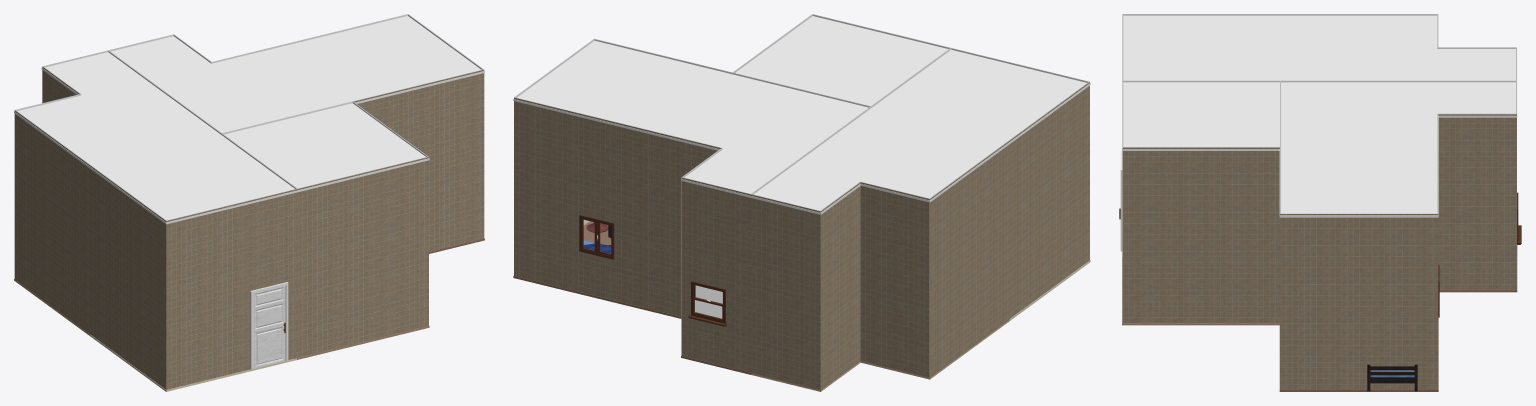
Rendered from ProcTHOR-Train-35.glb.
3 renders of one model, left to right at view 1: azimuth 30°, elevation 25°; view 2: azimuth 150°, elevation 25°; view 3: azimuth 270°, elevation 25°, orthographic. The views are drawn at different scales.
Parts seen in each view (by area): view 1: WallInside#wall|exterior|3.67|9.17|7.34|9.17, Ceiling#room|4|c, WallInside#wall|exterior|7.34|9.17|11.01|9.17, WallInside#wall|exterior|11.01|1.83|11.01|5.50, WallInside#wall|exterior|11.01|5.50|11.01|9.17, Ceiling#room|6|c, WallInside#wall|exterior|0.00|5.50|3.67|5.50, Ceiling#room|7|c, Ceiling#room|5|c, Doorway_8, WallInside#wall|exterior|9.17|0.00|9.17|1.83, Floor#room|7|f (+1 smaller); view 2: WallInside#wall|exterior|0.00|1.83|5.50|1.83, Ceiling#room|4|c, WallInside#wall|exterior|11.01|5.50|11.01|9.17, WallInside#wall|exterior|11.01|1.83|11.01|5.50, Ceiling#room|6|c, WallInside#wall|exterior|7.34|0.00|9.17|0.00, WallInside#wall|exterior|9.17|1.83|11.01|1.83, WallInside#wall|exterior|5.50|0.00|7.34|0.00, Ceiling#room|7|c, Ceiling#room|5|c, WallInside#wall|exterior|9.17|0.00|9.17|1.83, Floor#room|4|f (+4 smaller); view 3: WallInside#wall|exterior|3.67|5.50|3.67|9.17, WallInside#wall|exterior|0.00|1.83|0.00|5.50, Ceiling#room|4|c, WallInside#wall|exterior|5.50|0.00|5.50|1.83, Ceiling#room|6|c, Ceiling#room|5|c, Ceiling#room|7|c, Bed_20, Floor#room|4|f, WallInside#wall|4|7.34|0.00|7.34|5.50, Floor#room|5|f, WallInside#wall|5|7.34|5.50|7.34|9.17.
Part boxes in pixels (<box>): WallInside#wall|exterior|3.67|9.17|7.34|9.17: <box>297,157,428,357</box>; Ceiling#room|4|c: <box>110,16,484,134</box>; WallInside#wall|exterior|7.34|9.17|11.01|9.17: <box>166,189,297,389</box>; WallInside#wall|exterior|11.01|1.83|11.01|5.50: <box>14,110,90,334</box>; WallInside#wall|exterior|11.01|5.50|11.01|9.17: <box>90,165,166,389</box>; Ceiling#room|6|c: <box>14,52,221,167</box>; WallInside#wall|exterior|0.00|5.50|3.67|5.50: <box>353,69,484,251</box>; Ceiling#room|7|c: <box>89,135,298,224</box>; Ceiling#room|5|c: <box>223,103,429,192</box>; Doorway_8: <box>250,282,288,369</box>; WallInside#wall|exterior|9.17|0.00|9.17|1.83: <box>42,66,79,102</box>; Floor#room|7|f: <box>89,334,296,391</box>; WallInside#wall|exterior|0.00|1.83|5.50|1.83: <box>514,97,721,316</box>; Ceiling#room|4|c: <box>513,40,871,197</box>; WallInside#wall|exterior|11.01|5.50|11.01|9.17: <box>1009,81,1089,318</box>; WallInside#wall|exterior|11.01|1.83|11.01|5.50: <box>929,140,1009,376</box>; Ceiling#room|6|c: <box>750,108,1010,214</box>; WallInside#wall|exterior|7.34|0.00|9.17|0.00: <box>750,194,820,389</box>; WallInside#wall|exterior|9.17|1.83|11.01|1.83: <box>860,182,929,377</box>; WallInside#wall|exterior|5.50|0.00|7.34|0.00: <box>681,177,751,372</box>; Ceiling#room|7|c: <box>872,50,1090,143</box>; Ceiling#room|5|c: <box>734,16,951,106</box>; WallInside#wall|exterior|9.17|0.00|9.17|1.83: <box>820,182,860,389</box>; Floor#room|4|f: <box>513,221,751,374</box>; WallInside#wall|exterior|3.67|5.50|3.67|9.17: <box>1122,147,1279,323</box>; WallInside#wall|exterior|0.00|1.83|0.00|5.50: <box>1280,214,1438,389</box>; Ceiling#room|4|c: <box>1279,82,1517,217</box>; WallInside#wall|exterior|5.50|0.00|5.50|1.83: <box>1437,114,1516,289</box>; Ceiling#room|6|c: <box>1279,15,1517,81</box>; Ceiling#room|5|c: <box>1122,82,1279,150</box>; Ceiling#room|7|c: <box>1122,15,1281,81</box>; Bed_20: <box>1367,364,1417,391</box>; Floor#room|4|f: <box>1279,257,1517,391</box>; WallInside#wall|4|7.34|0.00|7.34|5.50: <box>1281,80,1515,82</box>; Floor#room|5|f: <box>1122,257,1279,325</box>; WallInside#wall|5|7.34|5.50|7.34|9.17: <box>1123,80,1280,82</box>.
Size of what is drawn, in the model's own units: 11.13 by 4.58 by 9.38.
Materials: 244 (105 with a texture image).
